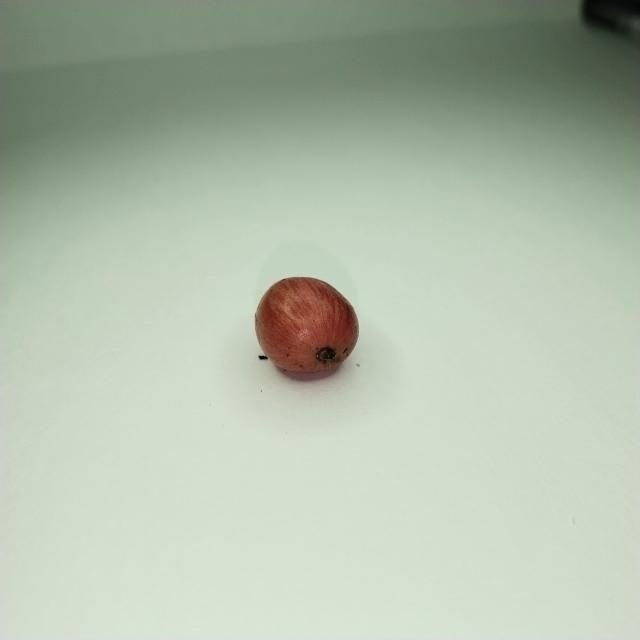Infectado: (255, 277, 358, 379)
